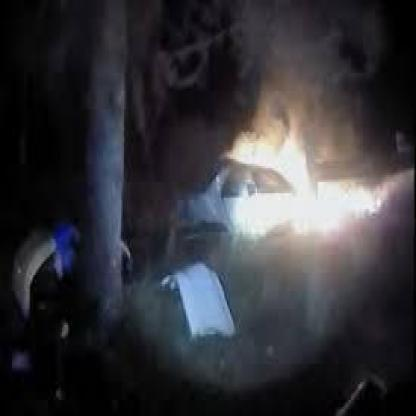fire: (184, 74, 392, 249)
